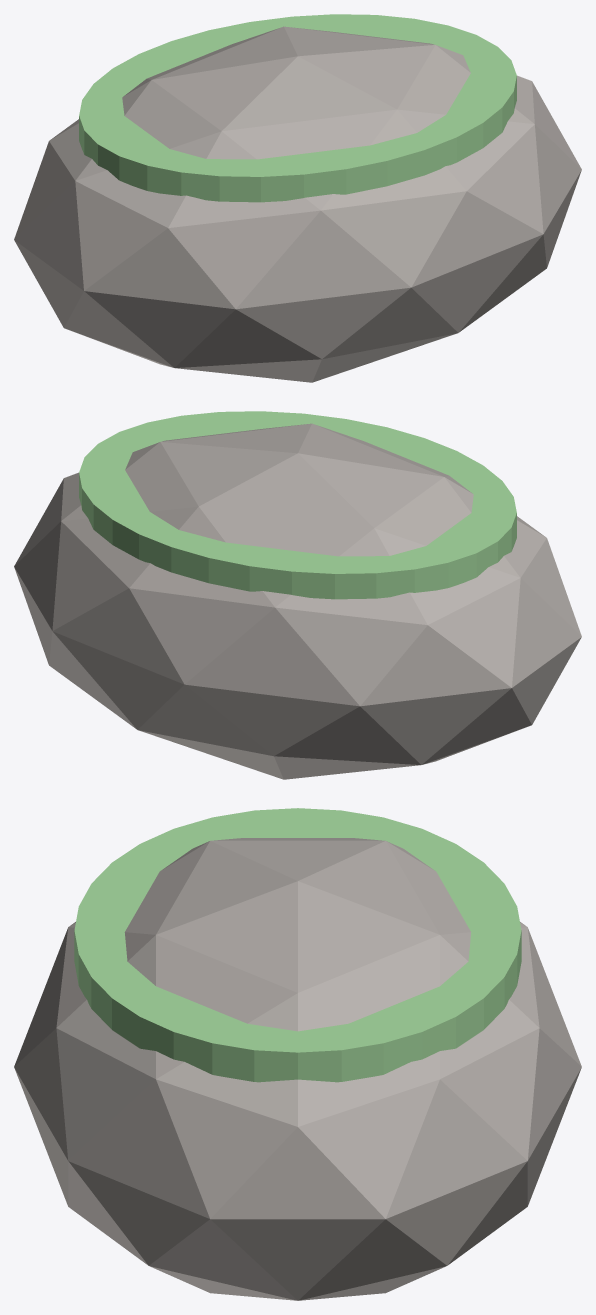
Rendered from moss_rock.glb.
3 views of the same model, one above another, from view 1: azimuth 30°, elevation 25°; view 2: azimuth 150°, elevation 25°; view 3: azimuth 270°, elevation 25° (orthographic). The views are drawn at different scales.
Visible parts, largest first — view 1: Icosphere, Cylinder; view 2: Icosphere, Cylinder; view 3: Icosphere, Cylinder.
Boxes of the visible parts, left/top/right/bottom form: Icosphere: left=14, top=26, right=581, bottom=382; Cylinder: left=79, top=14, right=516, bottom=202; Icosphere: left=14, top=423, right=581, bottom=779; Cylinder: left=79, top=411, right=516, bottom=599; Icosphere: left=14, top=838, right=581, bottom=1300; Cylinder: left=74, top=808, right=521, bottom=1082.
Size of the model in its own units: 2.05 by 1.17 by 1.62.
